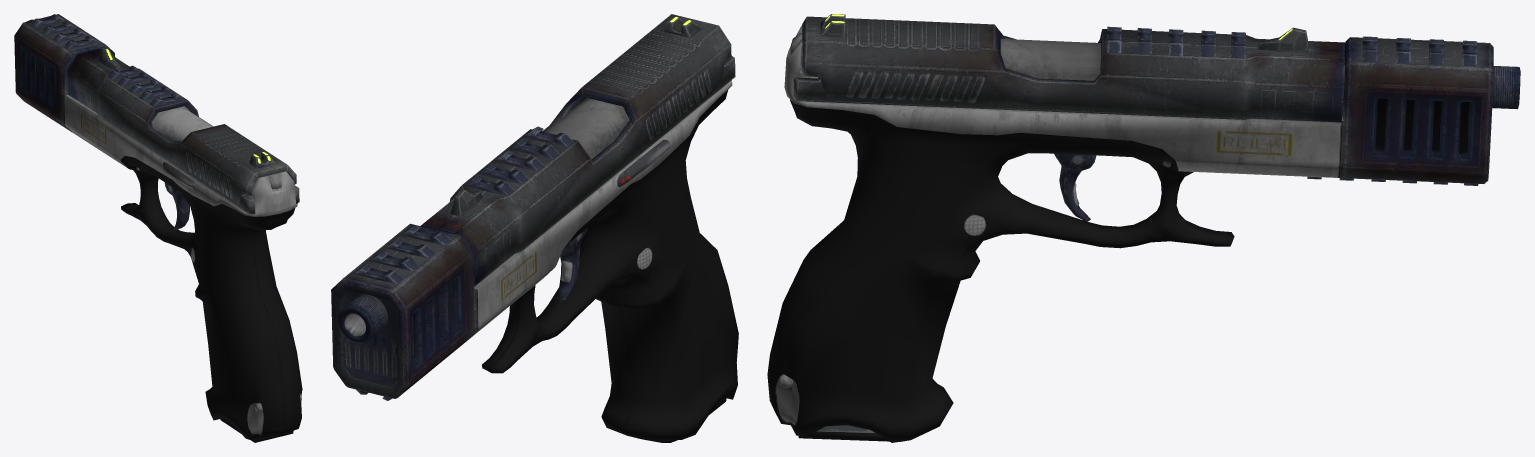
The model's file is pistol9mm.glb.
3 views of the same model, side by side, from view 1: azimuth 30°, elevation 25°; view 2: azimuth 150°, elevation 25°; view 3: azimuth 270°, elevation 25° (orthographic). The views are drawn at different scales.
Visible parts, largest first — view 1: Frame_low, Slide_low, Ejector_low, Trigger_low, Slide_Stop_low; view 2: Frame_low, Slide_low, Ejector_low, Trigger_low, Slide_Stop_low; view 3: Frame_low, Slide_low, Ejector_low, Trigger_low.
Part boxes in pixels (box(x1,y1,x2,y2)): Frame_low: box(14, 14, 302, 442); Slide_low: box(67, 47, 299, 214); Ejector_low: box(151, 106, 212, 141); Trigger_low: box(164, 182, 189, 229); Slide_Stop_low: box(163, 161, 196, 190); Frame_low: box(331, 80, 738, 442); Slide_low: box(420, 14, 735, 286); Ejector_low: box(545, 98, 629, 159); Trigger_low: box(557, 228, 587, 301); Slide_Stop_low: box(617, 139, 670, 187); Frame_low: box(767, 26, 1520, 442); Slide_low: box(793, 14, 1344, 122); Ejector_low: box(1000, 39, 1100, 80); Trigger_low: box(1054, 153, 1096, 221).
Size of the model in its own units: 0.0317 by 0.1246 by 0.2075.
Materials: 1 (1 with a texture image).
